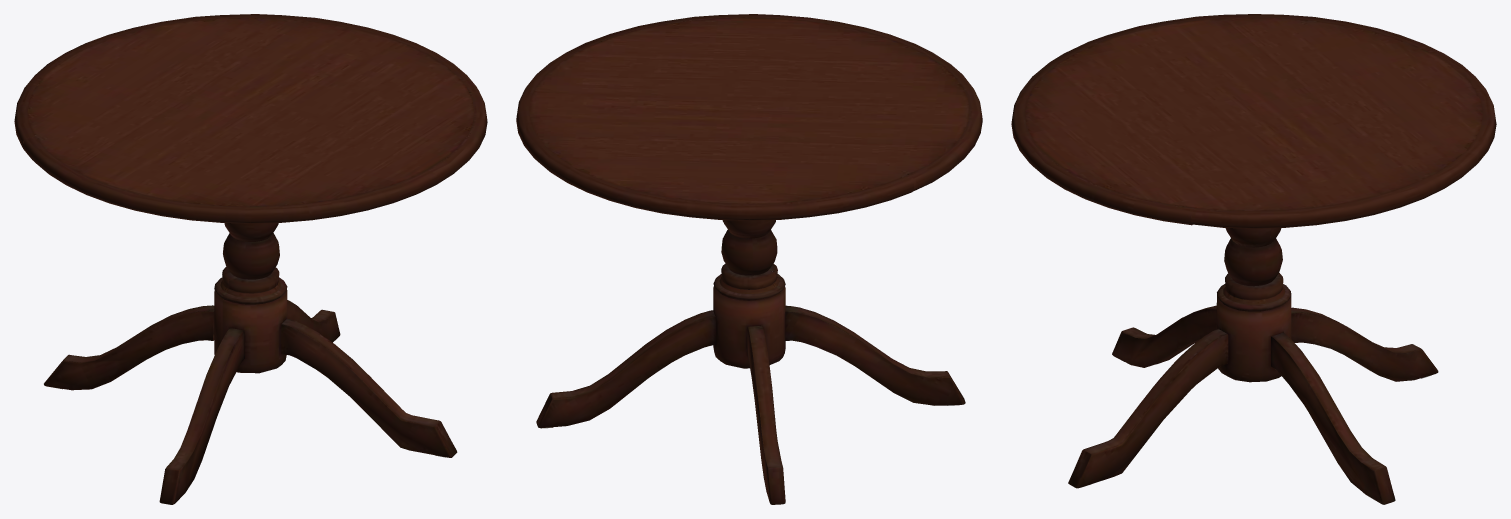
Rendered from table-5a5fff03a95e.glb.
The picture shows the model from 3 angles, left to right: view 1: azimuth 30°, elevation 25°; view 2: azimuth 150°, elevation 25°; view 3: azimuth 270°, elevation 25°; orthographic projection. The views are drawn at different scales.
Visible parts, largest first — view 1: ph_table_cafe_round_part_0; view 2: ph_table_cafe_round_part_0; view 3: ph_table_cafe_round_part_0.
Boxes of the visible parts, <box> form: ph_table_cafe_round_part_0: <box>14,14,487,504</box>; ph_table_cafe_round_part_0: <box>516,14,982,504</box>; ph_table_cafe_round_part_0: <box>1011,14,1496,504</box>.
Size of the model in its own units: 1.4 by 1 by 1.4.
1 material, 1 textured.
